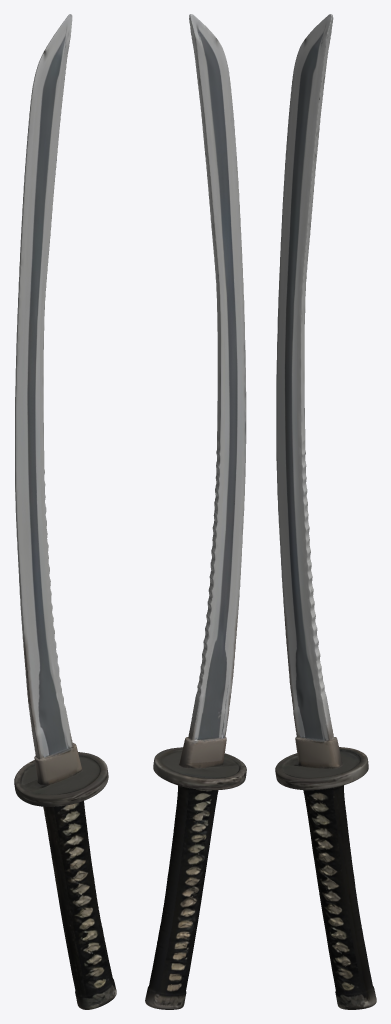
File: katana.glb
3 views of the same model, side by side, from view 1: azimuth 30°, elevation 25°; view 2: azimuth 210°, elevation 25°; view 3: azimuth 330°, elevation 25° (orthographic).
Parts seen in each view (by area): view 1: node_0; view 2: node_0; view 3: node_0.
Boxes of the visible parts, <box> form: node_0: <box>14,14,116,1009</box>; node_0: <box>145,14,246,1009</box>; node_0: <box>275,14,376,1009</box>.
Bounding box in the file's own units: 0.065 × 0.6201 × 0.0519.
Materials: 1 (1 with a texture image).
